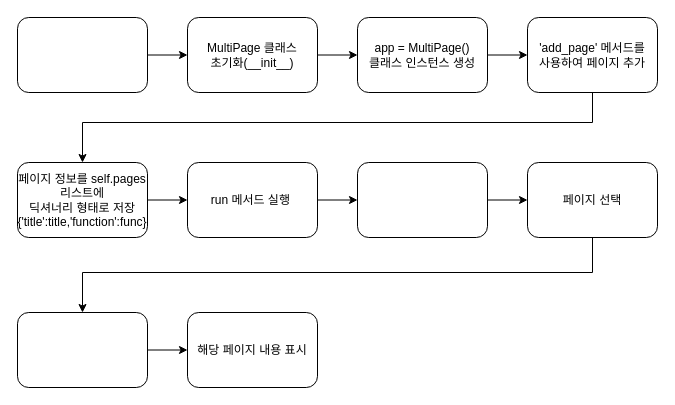
Image size: 675x405. Some labels were removed from this diagram. Here are the shapes that lost their labels. From the top down, the centre of each, then its label:
At pixel 82 54: "MultiPage 클래스 정의".
At pixel 422 200: "page = st.sidebar.selectbox를 통해 사용자에게 페이지 선택 옵션 제공".
At pixel 82 350: "선택된 페이지의 함수 page['function']()을 호출하여 실행".
